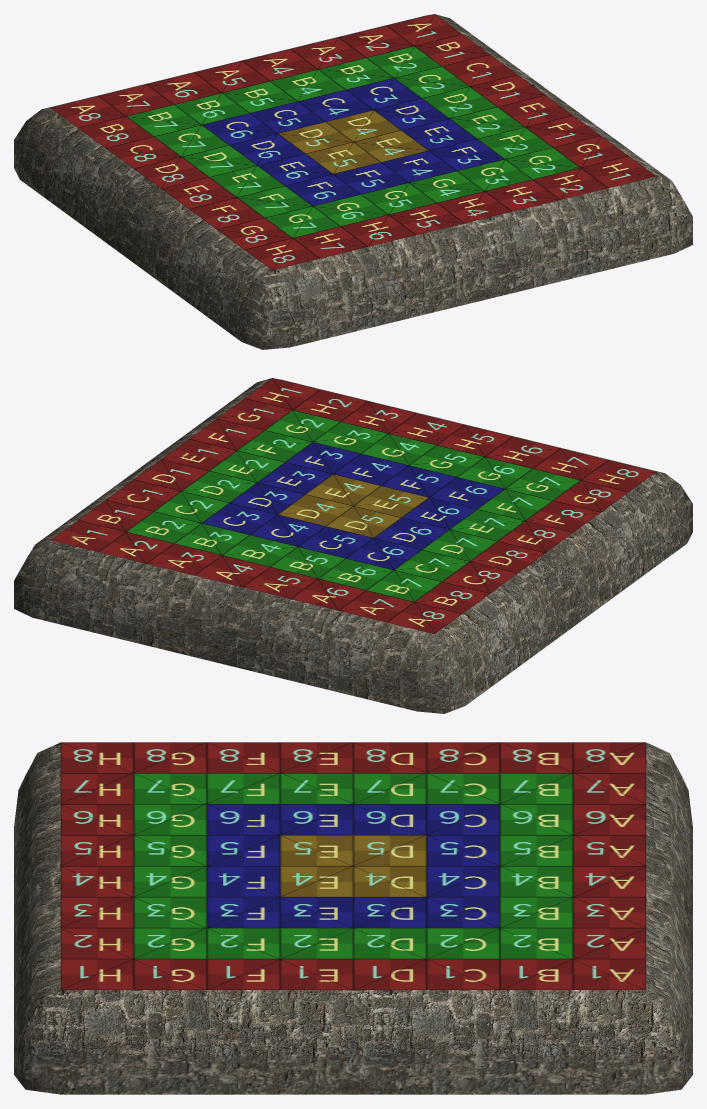
File: CK Foundation with edges.dae
3 views of the same model, one above another, from view 1: azimuth 30°, elevation 25°; view 2: azimuth 150°, elevation 25°; view 3: azimuth 270°, elevation 25° (orthographic). The views are drawn at different scales.
Parts seen in each view (by area): view 1: Cube; view 2: Cube; view 3: Cube.
Part boxes in pixels (x1,y1,x2,y2): Cube: (14, 14, 692, 349); Cube: (14, 378, 692, 713); Cube: (14, 742, 692, 1094).
Bounding box in the file's own units: 5.8 × 5.8 × 0.8.
Materials: 5 (5 with a texture image).
